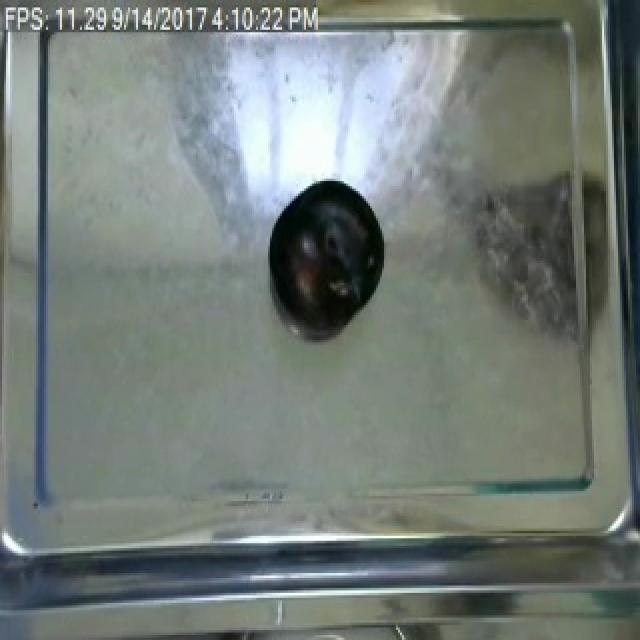Fruit: (262, 174, 388, 335)
